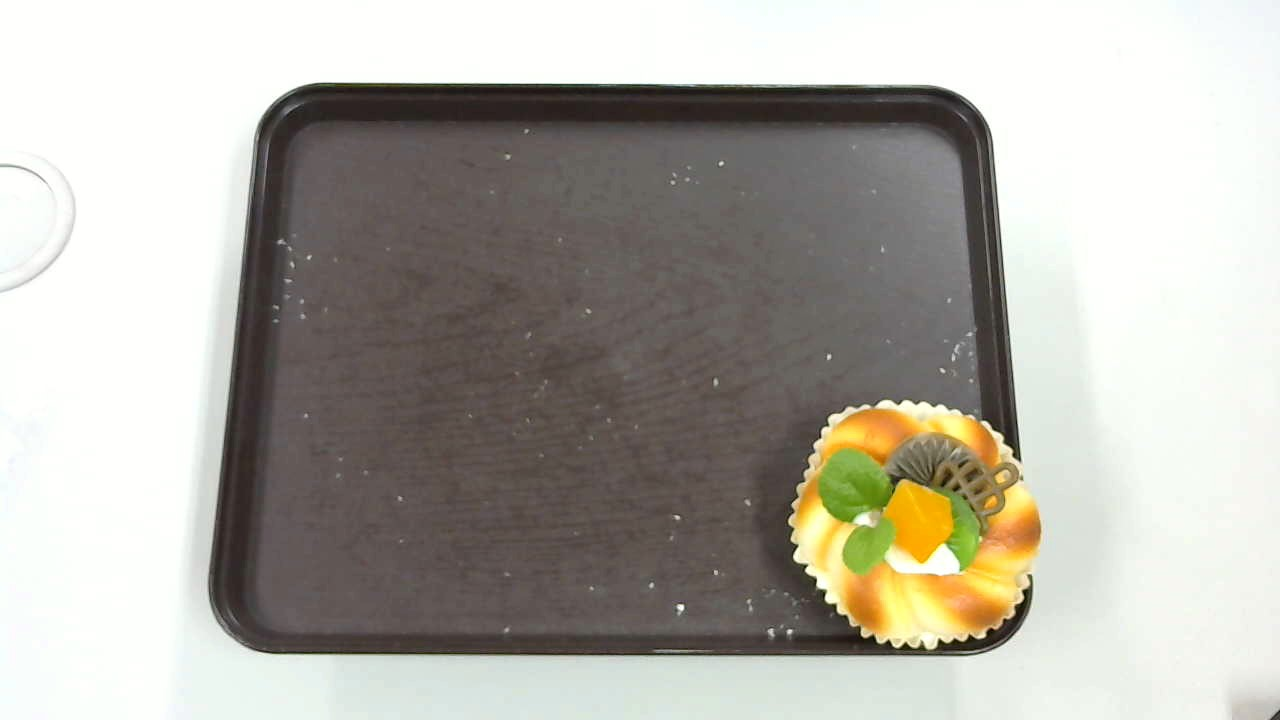fruit tart: (788, 399, 1043, 649)
